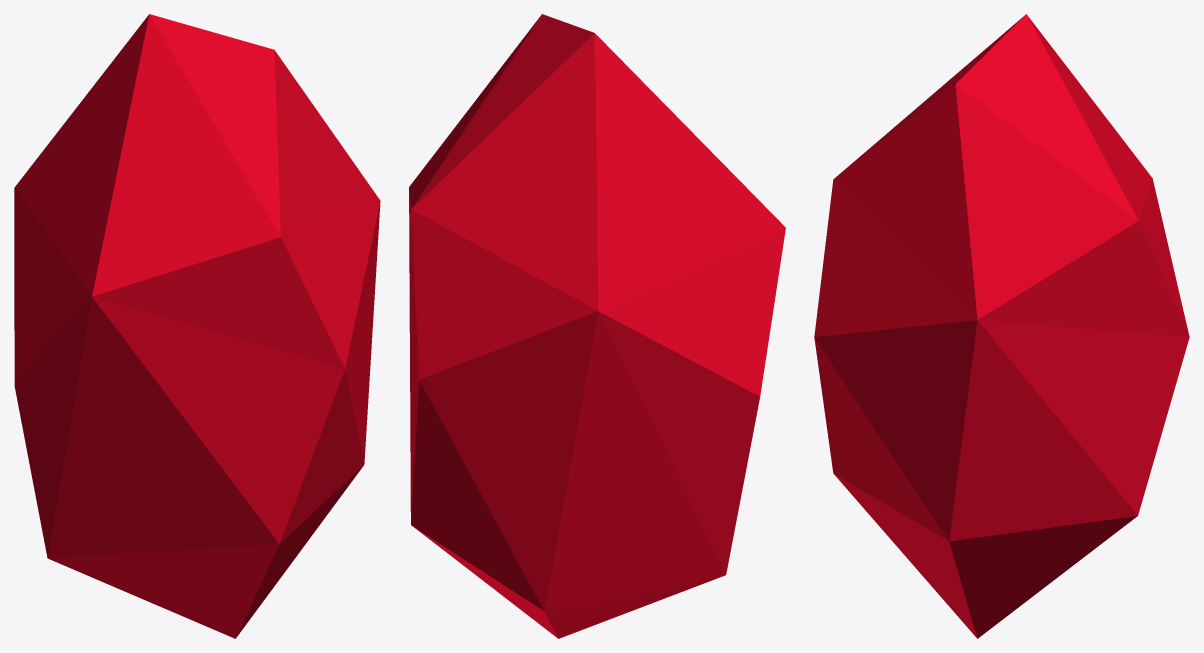
Rendered from Ruby.fbx.
3 renders of one model, left to right at view 1: azimuth 30°, elevation 25°; view 2: azimuth 150°, elevation 25°; view 3: azimuth 270°, elevation 25°, orthographic. The views are drawn at different scales.
Parts seen in each view (by area): view 1: Ruby; view 2: Ruby; view 3: Ruby.
Boxes of the visible parts, box(x1,y1,x2,y2) form: Ruby: box(14, 14, 380, 638); Ruby: box(409, 14, 785, 638); Ruby: box(814, 14, 1189, 638).
Bounding box in the file's own units: 14.51 × 24.37 × 13.9.
